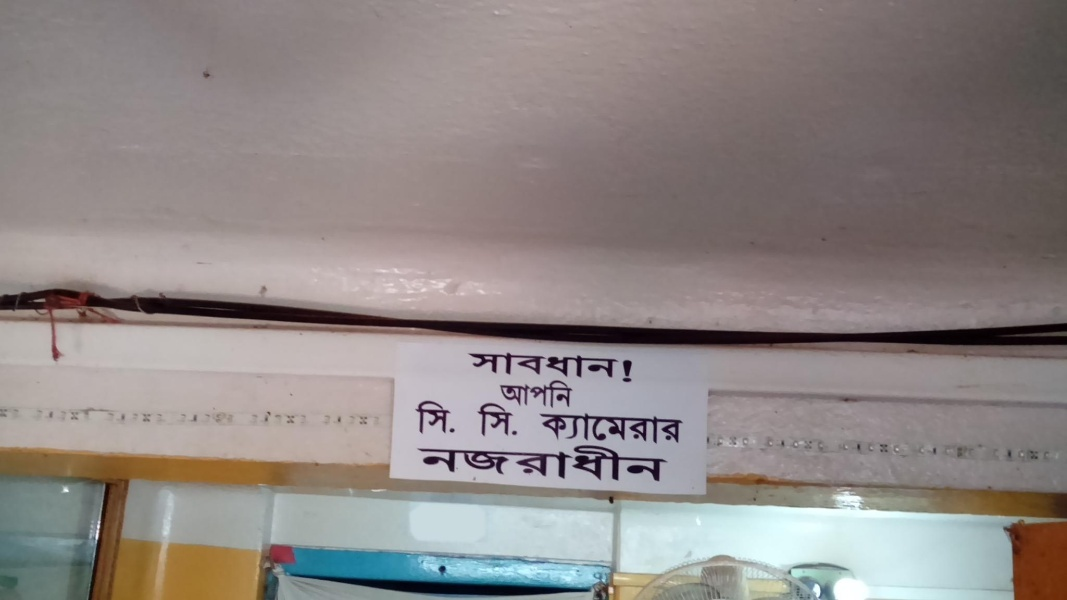text: (417, 443, 432, 483), (433, 443, 448, 483), (449, 443, 464, 483), (465, 443, 480, 483), (481, 443, 496, 483), (497, 443, 512, 483), (513, 443, 528, 483), (529, 443, 544, 483), (545, 443, 560, 483), (561, 443, 576, 483), (577, 443, 592, 483), (593, 443, 608, 483), (609, 443, 624, 483), (625, 443, 640, 483), (641, 443, 656, 483), (417, 400, 432, 435), (433, 400, 448, 435), (545, 410, 560, 445), (561, 410, 576, 445), (577, 410, 592, 445), (593, 410, 608, 445), (609, 410, 624, 445), (625, 410, 640, 445), (641, 410, 656, 445), (657, 410, 672, 445), (481, 351, 496, 384), (497, 351, 512, 384), (513, 351, 528, 384), (529, 351, 544, 384), (545, 351, 560, 384), (561, 351, 576, 384), (577, 351, 592, 384), (593, 351, 608, 384), (609, 351, 624, 384), (481, 403, 496, 436), (497, 403, 512, 436), (657, 443, 669, 483), (513, 379, 528, 410), (529, 379, 544, 410), (545, 379, 560, 410), (561, 379, 576, 410), (625, 351, 638, 384), (673, 410, 684, 445), (500, 379, 512, 410), (469, 351, 480, 384), (449, 400, 456, 435), (513, 403, 518, 436), (540, 410, 544, 445), (477, 403, 480, 436), (577, 379, 578, 410)
